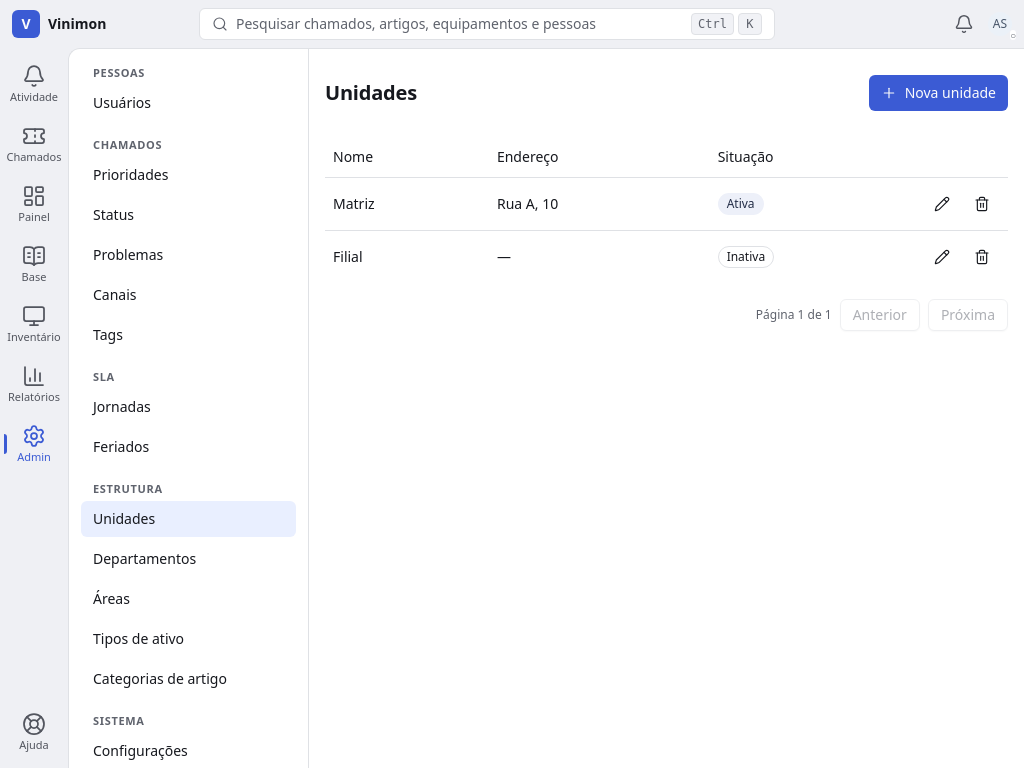
Test: /admin/unidades › (b) criar faz POST /unidades com o body esperado
This screenshot has width=1024, height=768.
Click the button "Nova unidade". click: [938, 93]
box: left=869, top=75, right=1008, bottom=111
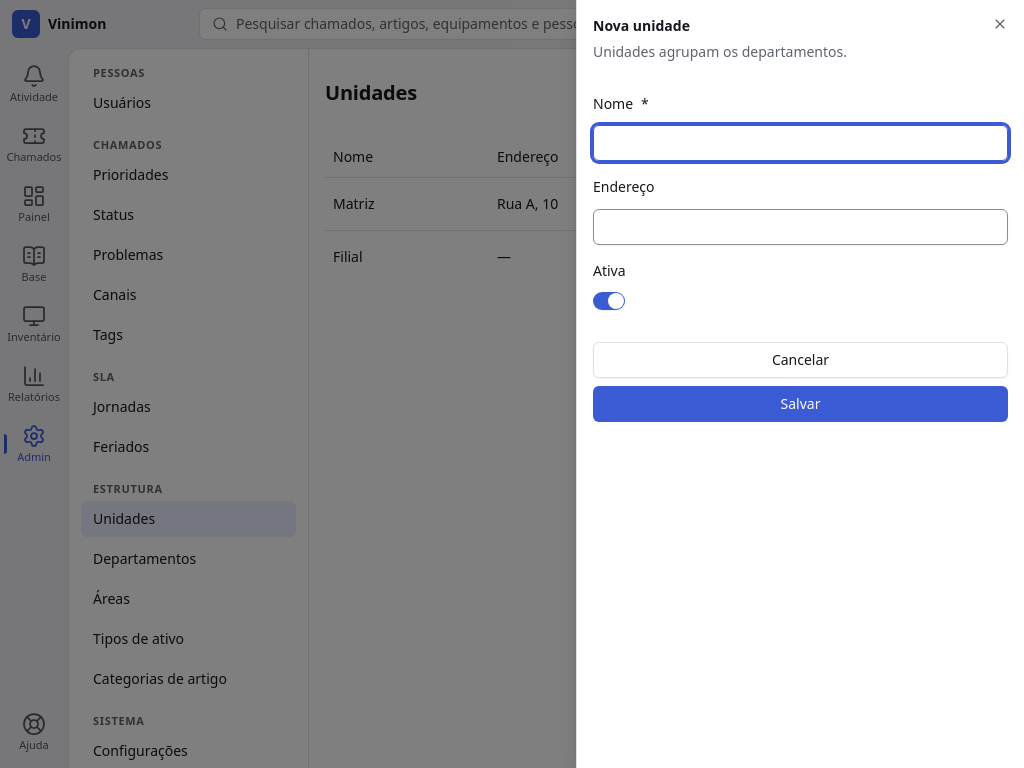
Type "Anexo" into the field labelled "Nome *". click: [800, 143]
box: left=593, top=125, right=1008, bottom=161
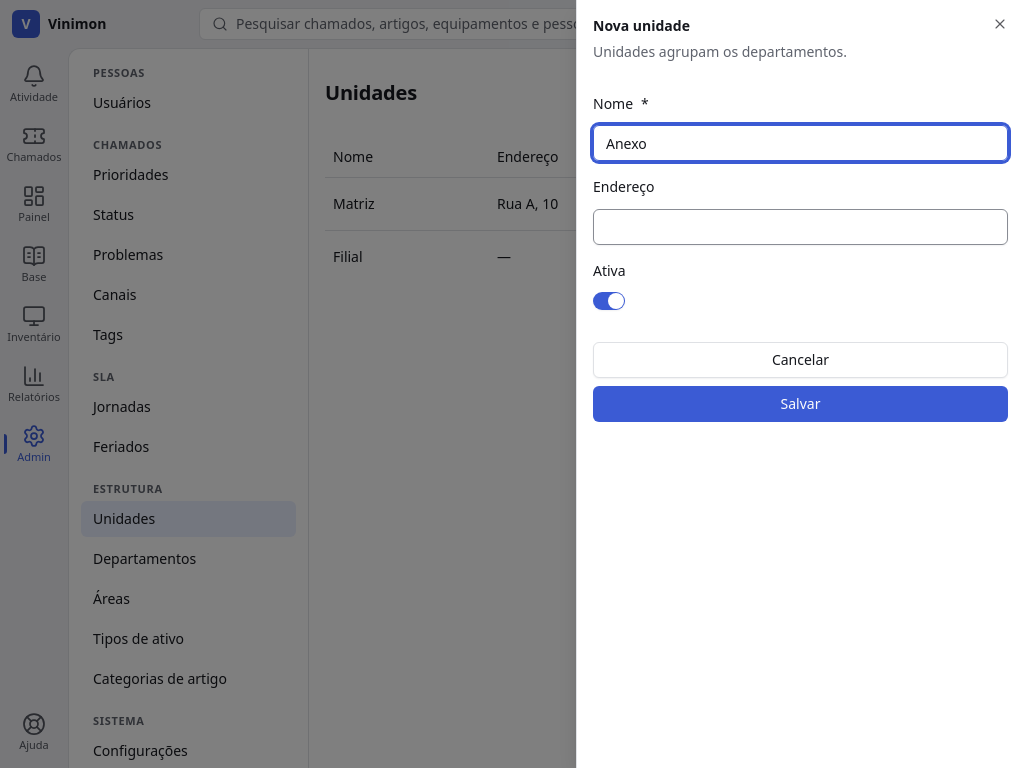
Click the button "Salvar". click: [800, 404]
box: left=593, top=386, right=1008, bottom=422
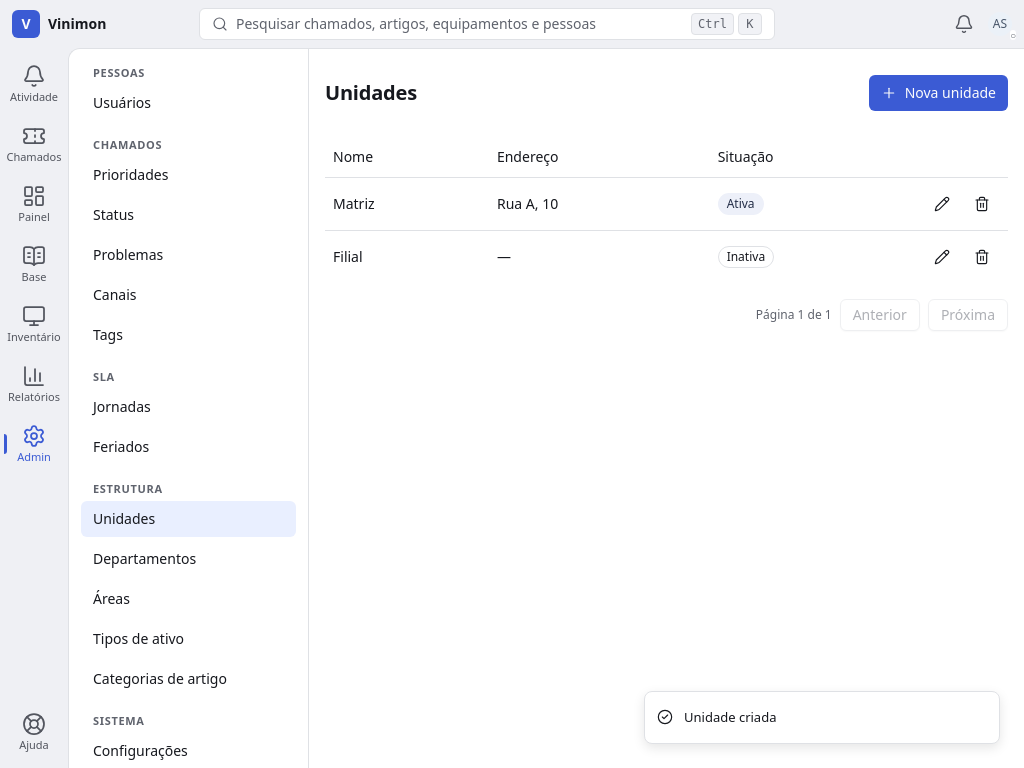
Expected: the text "Unidade criada" is shown, left=684, top=708, right=776, bottom=727
